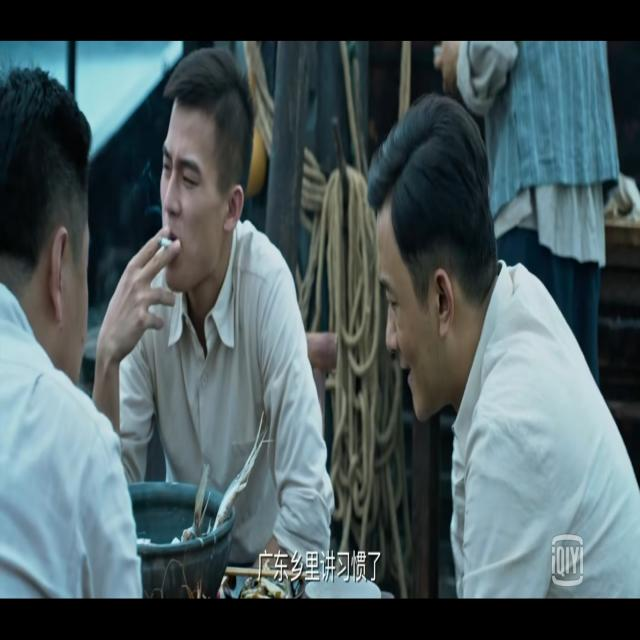cigarette: (159, 235, 174, 249)
